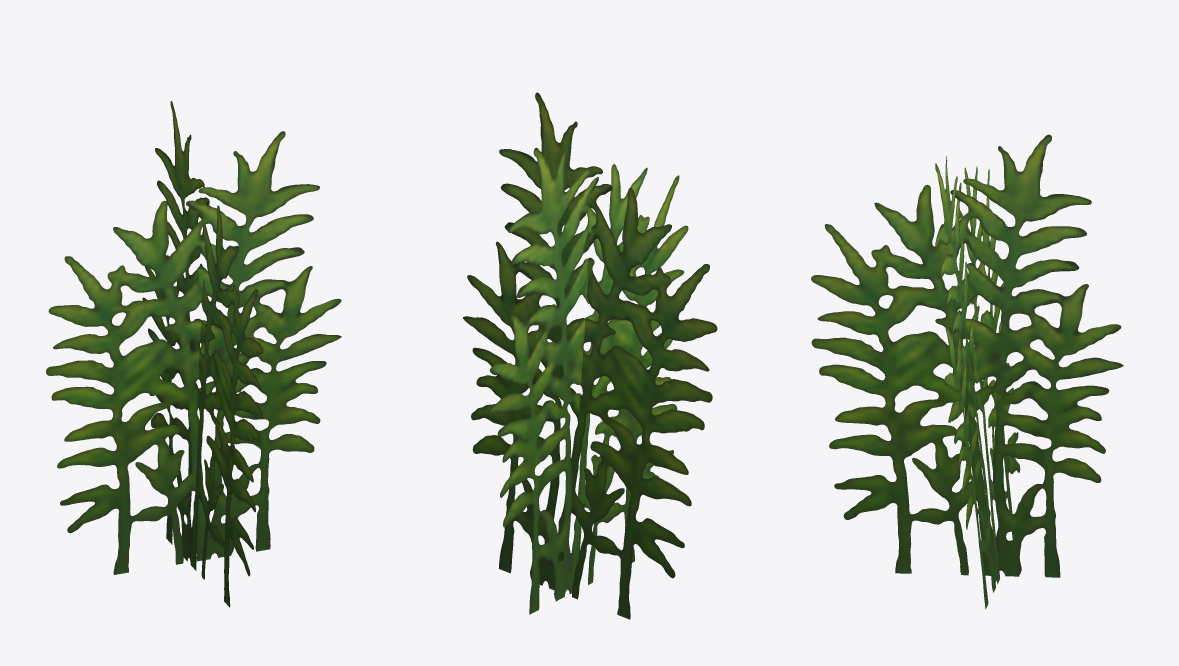
File: sucai_06.FBX
3 views of the same model, side by side, from view 1: azimuth 30°, elevation 25°; view 2: azimuth 150°, elevation 25°; view 3: azimuth 270°, elevation 25° (orthographic). The views are drawn at different scales.
Parts seen in each view (by area): view 1: sucai_06; view 2: sucai_06; view 3: sucai_06.
Part boxes in pixels (x1=…): sucai_06: x1=46, y1=101, x2=341, y2=607; sucai_06: x1=463, y1=92, x2=717, y2=619; sucai_06: x1=811, y1=134, x2=1123, y2=609.
Bounding box in the file's own units: 54.1 × 77.32 × 54.11.
